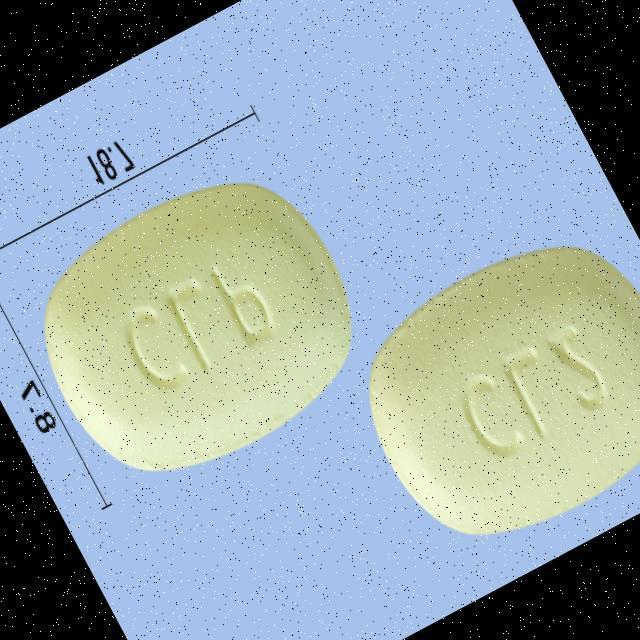Celltrion Clarithromycin: (1, 139, 394, 515), (324, 200, 640, 578)
